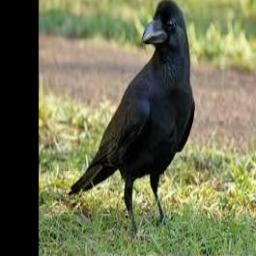Crow: (69, 0, 194, 234)
